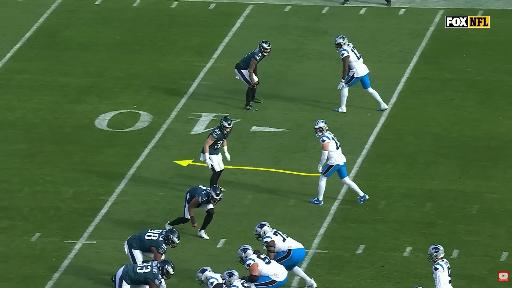Helmet: (197, 267, 213, 286), (164, 228, 180, 247), (255, 222, 271, 241), (159, 260, 174, 279), (238, 245, 253, 264), (428, 245, 444, 262), (222, 270, 239, 286), (314, 119, 328, 137), (210, 185, 223, 203), (220, 117, 232, 134), (335, 36, 347, 51), (259, 40, 271, 55)
Jersey: (245, 254, 287, 281), (127, 229, 167, 255), (340, 43, 369, 77), (123, 262, 162, 286), (320, 131, 346, 165), (263, 230, 303, 252), (235, 49, 265, 70), (209, 126, 228, 154), (433, 259, 451, 287), (188, 186, 211, 207), (207, 274, 225, 287), (230, 280, 254, 287)
Player: (310, 120, 368, 204), (334, 36, 387, 112), (255, 222, 316, 287), (166, 186, 223, 239), (235, 40, 270, 110), (200, 117, 232, 186), (238, 245, 287, 287), (125, 228, 180, 263), (112, 260, 174, 287), (428, 245, 452, 287), (197, 267, 226, 287), (222, 270, 239, 286), (228, 280, 254, 287)
